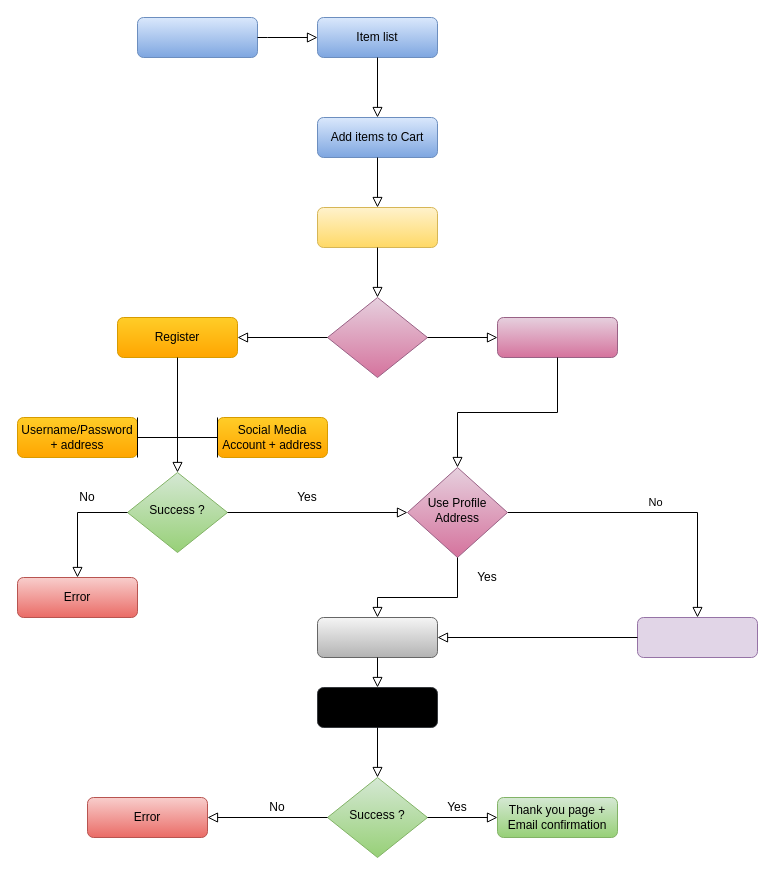
Image size: 775x875. Some labels were removed from this diagram. Each missing label, with the centre of its shape:
Add Order address: pixel 697 637
Cart: pixel 377 227
Logged in ?: pixel 377 337
Open App: pixel 197 37
Review Order: pixel 377 637
Use address: pixel 557 337
